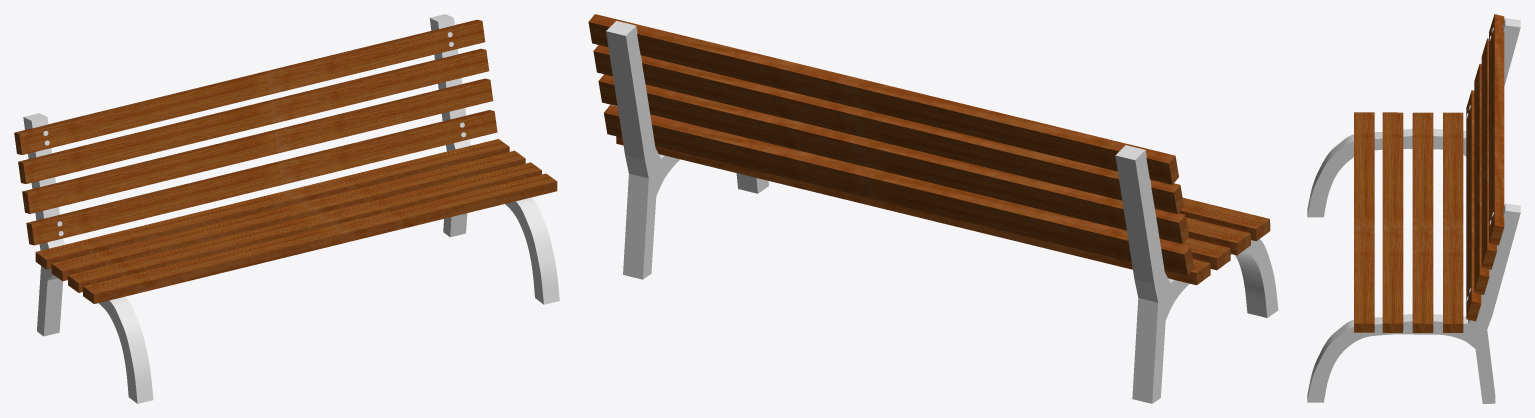
The model's file is yizi.FBX.
3 views of the same model, side by side, from view 1: azimuth 30°, elevation 25°; view 2: azimuth 150°, elevation 25°; view 3: azimuth 270°, elevation 25° (orthographic). The views are drawn at different scales.
Parts seen in each view (by area): view 1: Box010, Box009, Box011, Box07, Box015, Box012, Box013, Box014, Line01, Line02; view 2: Box07, Box011, Box010, Box009, Line01, Line02, Box012, Box015, Box013, Box014; view 3: Line02, Box013, Box014, Box015, Box012, Box07, Line01, Box011, Box010, Box009.
Part boxes in pixels (left/top/right/bottom): Box010: left=22, top=78, right=493, bottom=213; Box009: left=18, top=48, right=489, bottom=183; Box011: left=26, top=110, right=497, bottom=245; Box07: left=14, top=19, right=485, bottom=154; Box015: left=83, top=173, right=557, bottom=303; Box012: left=35, top=139, right=509, bottom=269; Box013: left=51, top=150, right=525, bottom=281; Box014: left=67, top=162, right=541, bottom=292; Line01: left=23, top=113, right=153, bottom=403; Line02: left=429, top=14, right=559, bottom=304; Box07: left=588, top=14, right=1178, bottom=184; Box011: left=604, top=105, right=1194, bottom=275; Box010: left=598, top=74, right=1188, bottom=243; Box009: left=593, top=45, right=1183, bottom=213; Line01: left=1115, top=145, right=1278, bottom=403; Line02: left=606, top=21, right=768, bottom=279; Box012: left=616, top=136, right=1210, bottom=285; Box015: left=1179, top=198, right=1270, bottom=241; Box013: left=650, top=114, right=1230, bottom=270; Box014: left=1186, top=217, right=1250, bottom=255; Line02: left=1307, top=203, right=1520, bottom=403; Box013: left=1412, top=112, right=1433, bottom=332; Box014: left=1382, top=112, right=1403, bottom=332; Box015: left=1354, top=112, right=1374, bottom=332; Box012: left=1443, top=112, right=1463, bottom=332; Box07: left=1489, top=14, right=1504, bottom=245; Line01: left=1307, top=18, right=1520, bottom=217; Box011: left=1466, top=90, right=1481, bottom=321; Box010: left=1474, top=63, right=1489, bottom=294; Box009: left=1481, top=38, right=1496, bottom=269.
Size of the model in its own units: 304 by 130 by 130.
Materials: 1 (1 with a texture image).
